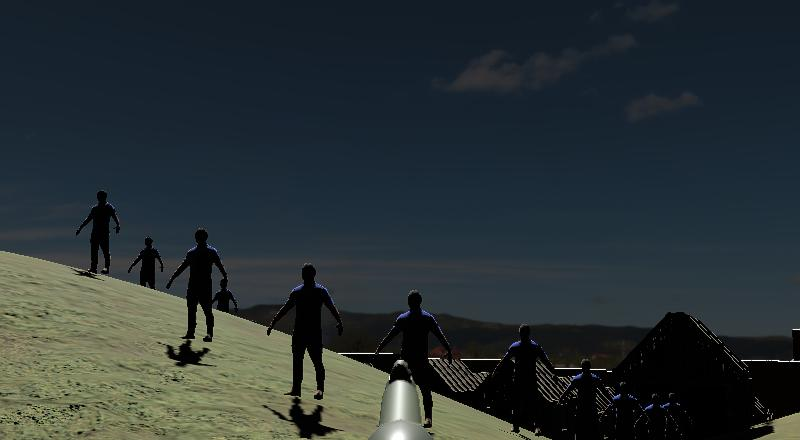Human: (375, 286, 455, 436), (264, 261, 345, 403), (560, 354, 620, 440)
